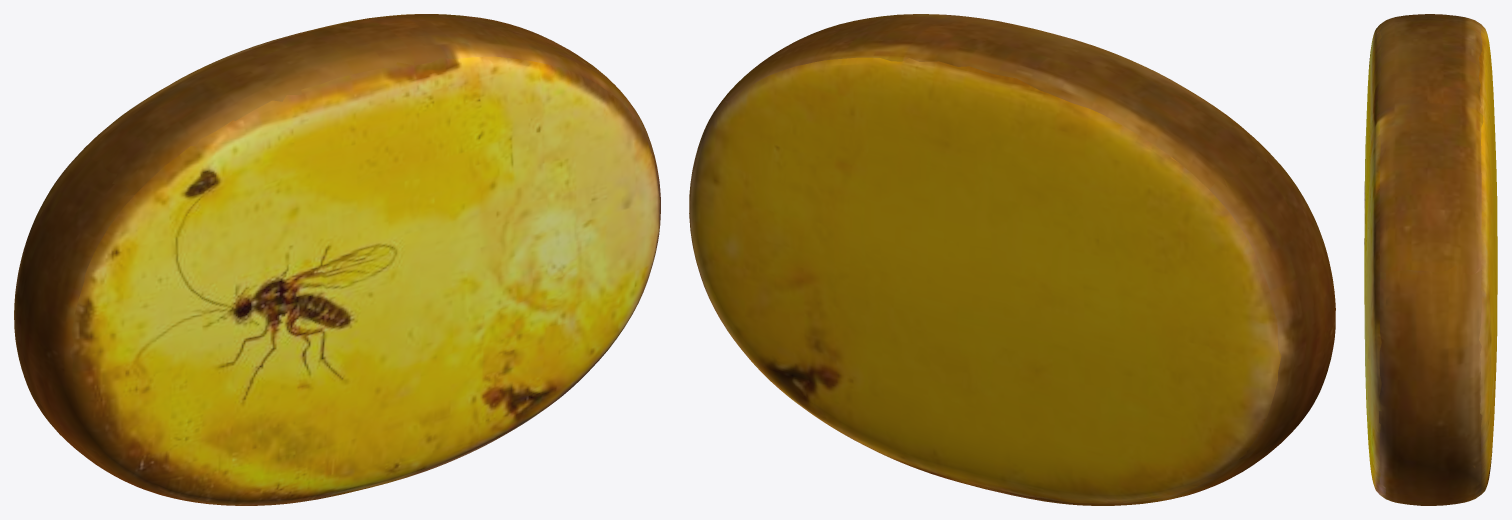
File: amber.glb
The picture shows the model from 3 angles, left to right: view 1: azimuth 30°, elevation 25°; view 2: azimuth 150°, elevation 25°; view 3: azimuth 270°, elevation 25°; orthographic projection. The views are drawn at different scales.
Visible parts, largest first — view 1: amber; view 2: amber; view 3: amber.
Part boxes in pixels (left/top/right/bottom): amber: left=14, top=14, right=660, bottom=505; amber: left=689, top=14, right=1335, bottom=505; amber: left=1364, top=14, right=1497, bottom=505.
Size of the model in its own units: 1 by 0.6867 by 0.2084.
Materials: 1 (1 with a texture image).
